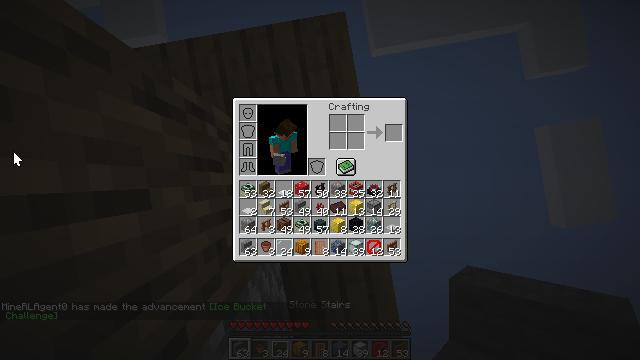cursor: (151, 13, 167, 23)
